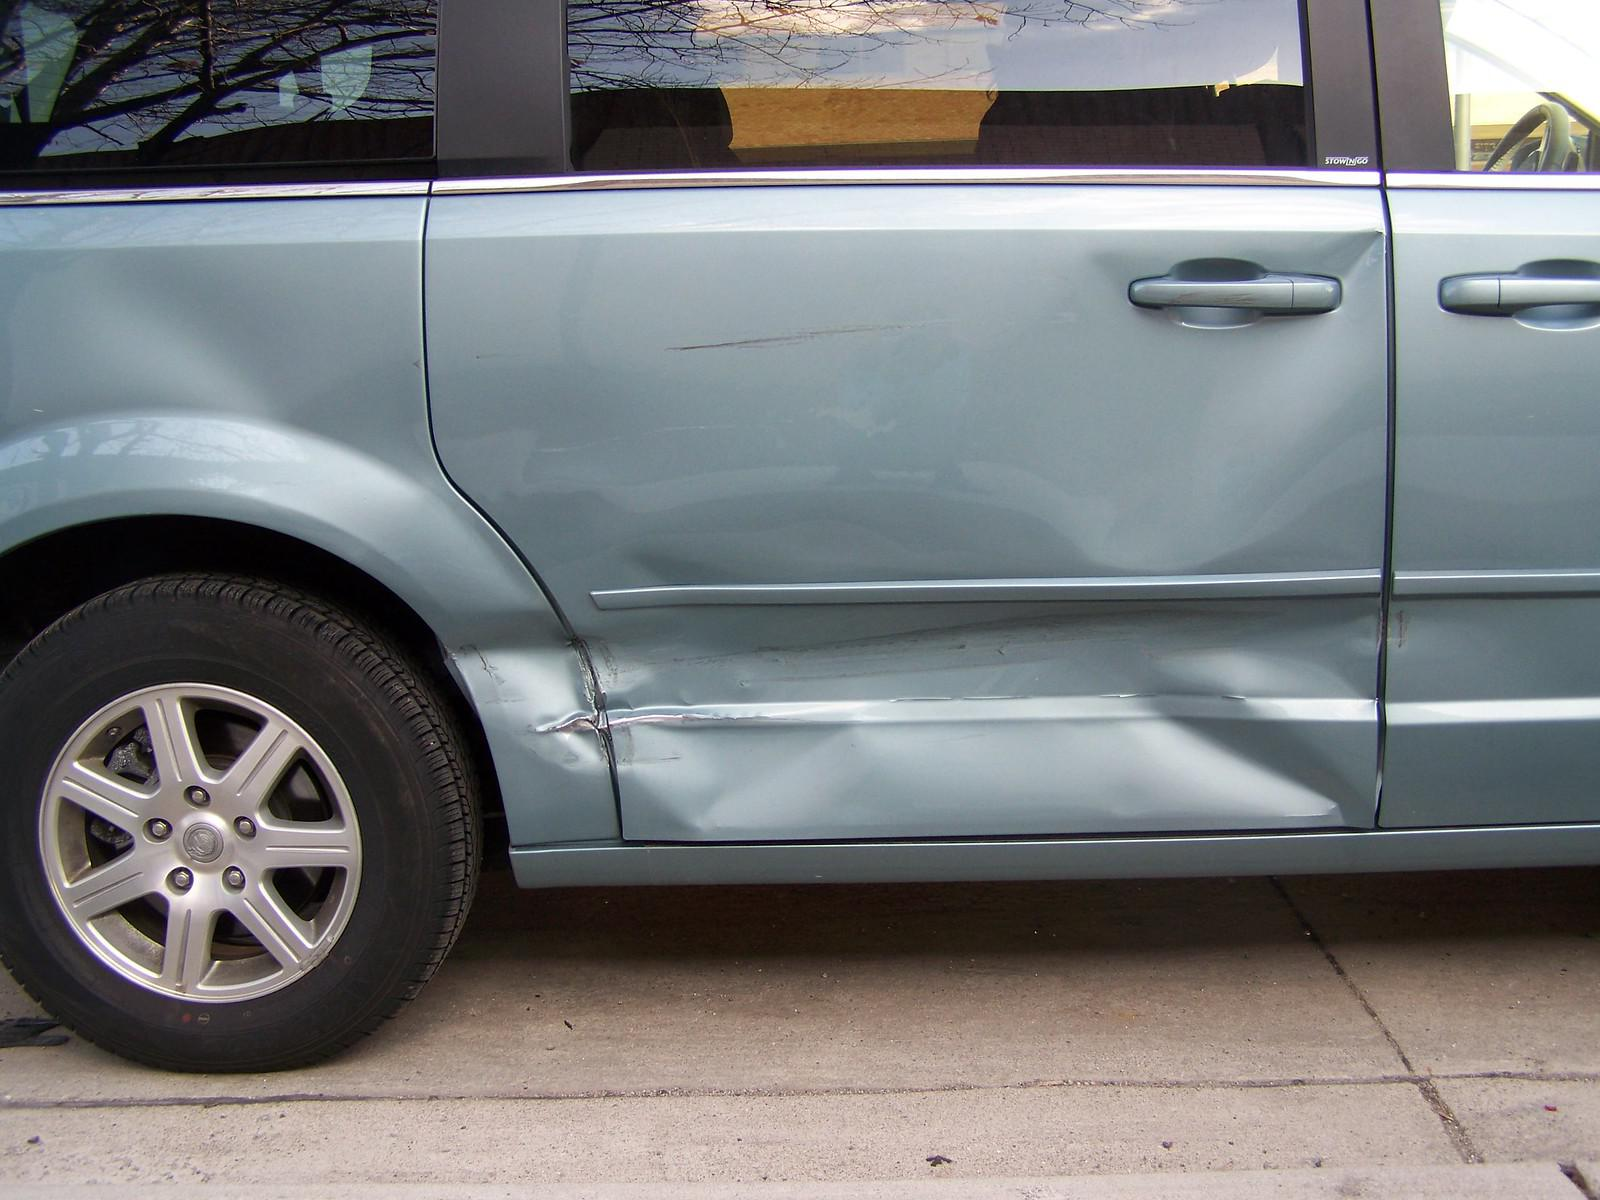doorouter-dent: (465, 187, 1387, 892)
